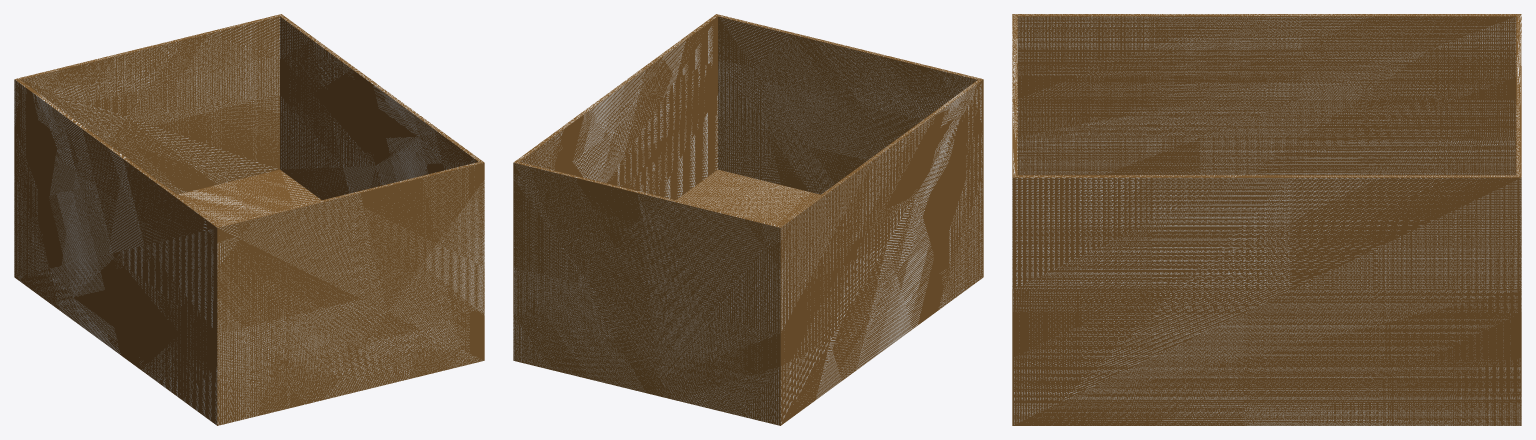
File: original-1.obj
3 views of the same model, side by side, from view 1: azimuth 30°, elevation 25°; view 2: azimuth 150°, elevation 25°; view 3: azimuth 270°, elevation 25° (orthographic). The views are drawn at different scales.
Visible parts, largest first — view 1: Group2/mesh1/mesh1-geometry#mesh1-geometry; view 2: Group2/mesh1/mesh1-geometry#mesh1-geometry; view 3: Group2/mesh1/mesh1-geometry#mesh1-geometry.
Boxes of the visible parts, x1,y1,x2,y2 form: Group2/mesh1/mesh1-geometry#mesh1-geometry: (14, 14, 484, 425); Group2/mesh1/mesh1-geometry#mesh1-geometry: (513, 14, 983, 425); Group2/mesh1/mesh1-geometry#mesh1-geometry: (1012, 14, 1521, 425).
Bounding box in the file's own units: 0.9903 × 0.7013 × 1.3.
